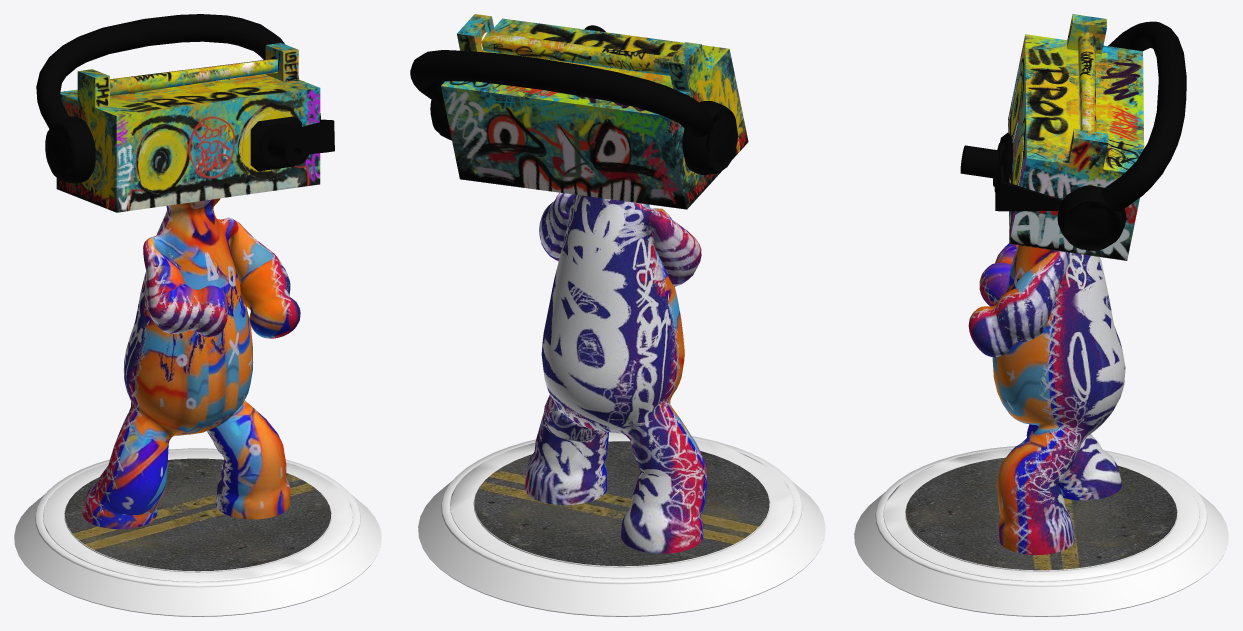
3 renders of one model, left to right at view 1: azimuth 30°, elevation 25°; view 2: azimuth 150°, elevation 25°; view 3: azimuth 270°, elevation 25°, orthographic. The views are drawn at different scales.
Size of the model in its own units: 1.45 by 2.05 by 1.45.
5 materials, 3 textured.
